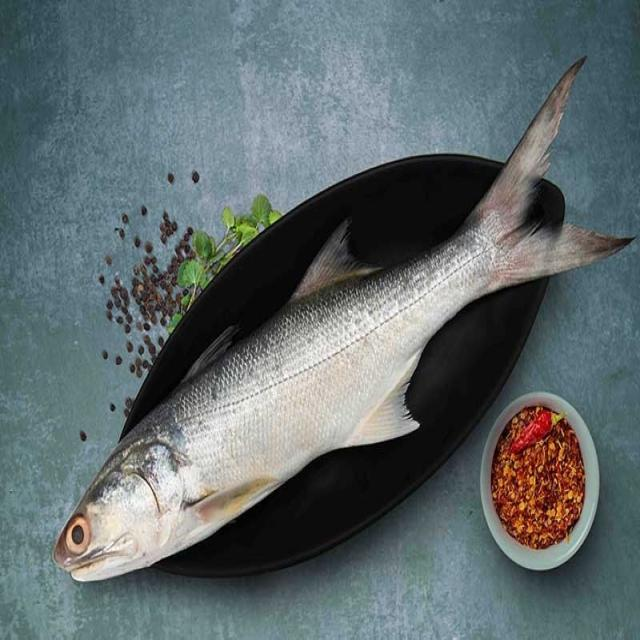Fourfinger-Threadfin: (22, 29, 638, 590)
